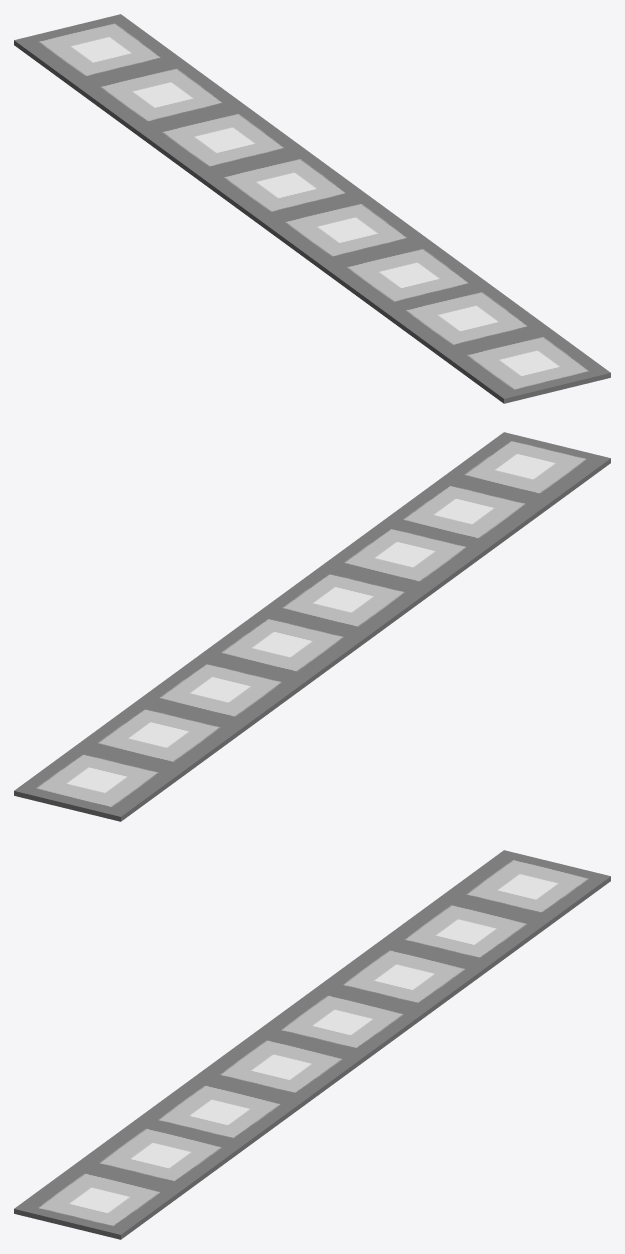
File: Hallway_CEILING.fbx
3 renders of one model, top to bottom at view 1: azimuth 30°, elevation 25°; view 2: azimuth 150°, elevation 25°; view 3: azimuth 330°, elevation 25°, orthographic.
Visible parts, largest first — view 1: Ceiling_hallway1; view 2: Ceiling_hallway1; view 3: Ceiling_hallway1.
Boxes of the visible parts, x1,y1,x2,y2 form: Ceiling_hallway1: [14, 14, 610, 403]; Ceiling_hallway1: [14, 432, 610, 821]; Ceiling_hallway1: [14, 850, 610, 1239].
Size of the model in its own units: 2.5 by 0.1101 by 19.84.
Materials: 1 (1 with a texture image).
